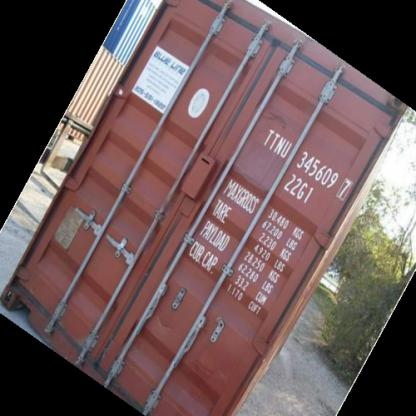Damage: (190, 354, 236, 400), (262, 104, 290, 141), (149, 310, 178, 340)
